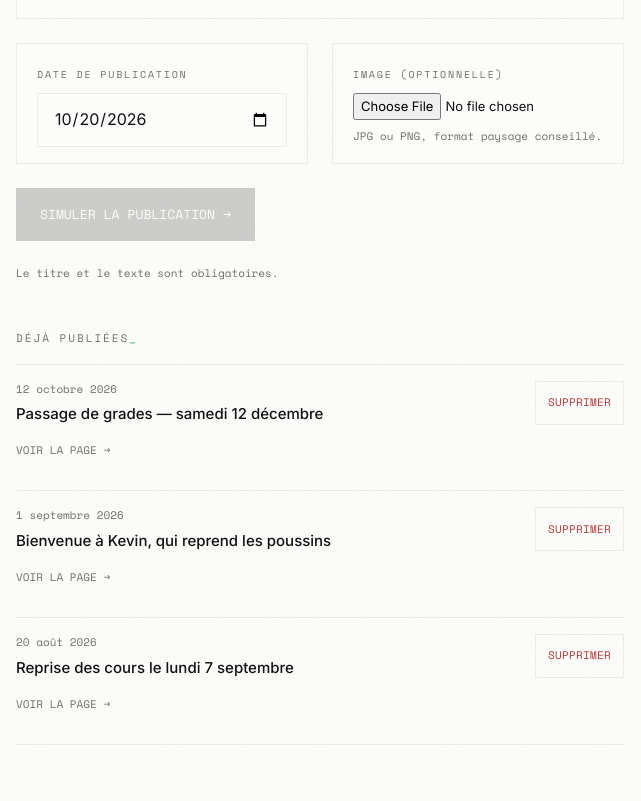
l’aperçu de la vitrine › annonce le chapitre invisible quand plus rien n’est publié
(page scrolled)
Step 1. Click the 1st button "Supprimer" → (579, 403), box [535,381,624,425]
(page scrolled)
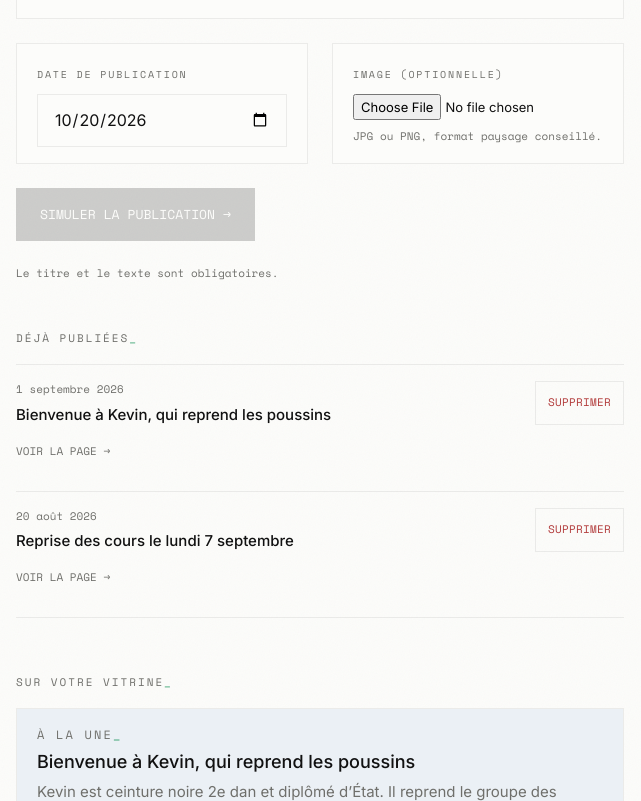
Step 2. Click the 1st button "Supprimer" → (579, 403), box [535,381,624,425]
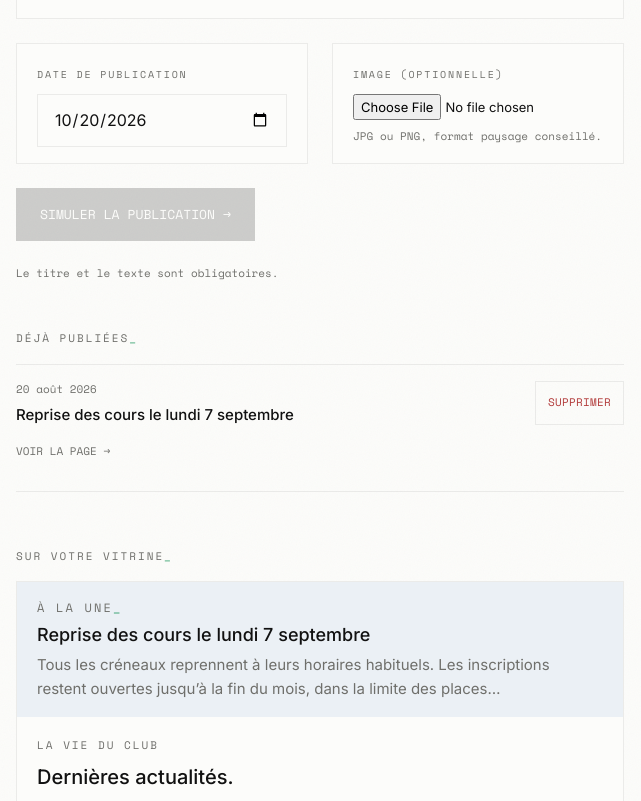
Step 3. Click the button "Supprimer" → (579, 403), box [535,381,624,425]
(page scrolled)
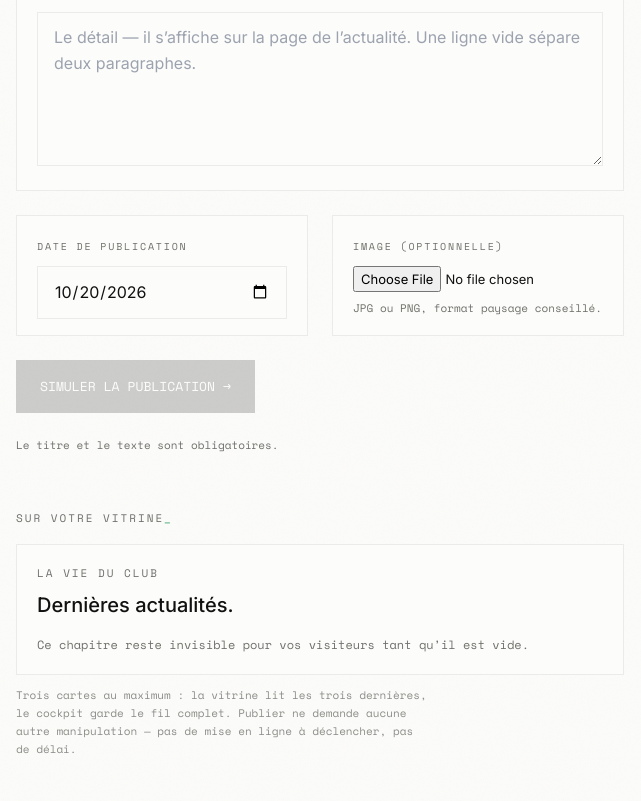
Expected: the text "À LA UNE" is not shown
Now the text "reste invisible pour vos visiteurs tant qu’il est vide" is shown, box [37,636,529,653]
Now the text "DÉJÀ PUBLIÉES" is gone
